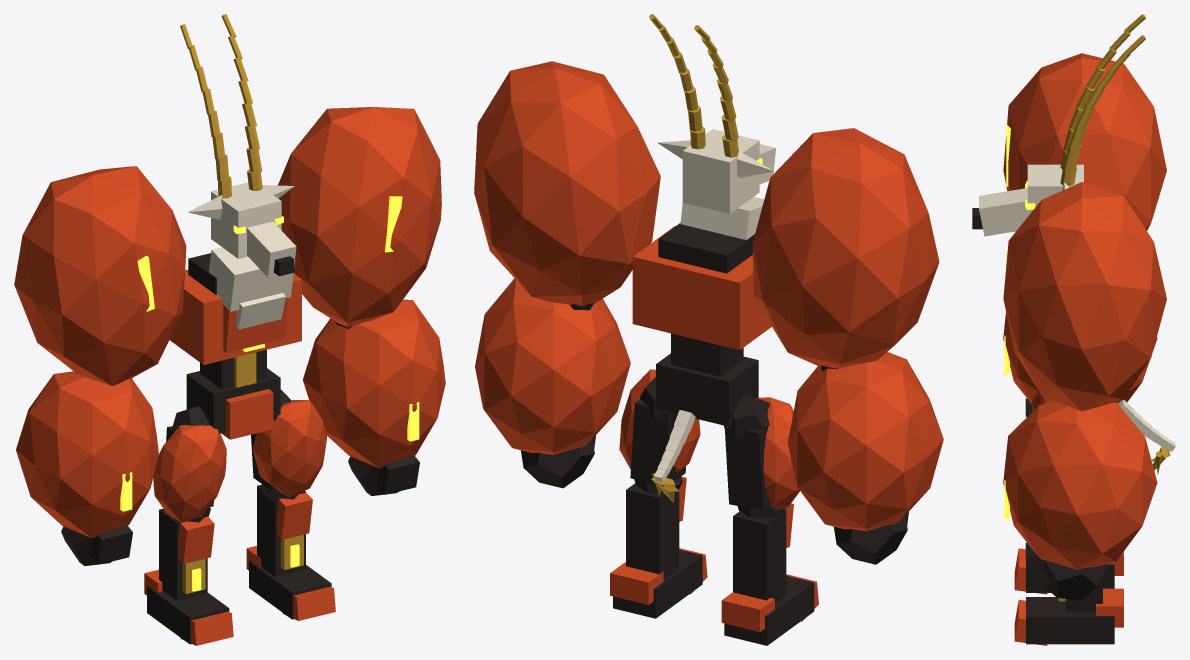
Rendered from beast-hangar-oryxus-v1.glb.
3 views of the same model, side by side, from view 1: azimuth 30°, elevation 25°; view 2: azimuth 150°, elevation 25°; view 3: azimuth 270°, elevation 25° (orthographic). The views are drawn at different scales.
Visible parts, largest first — view 1: surface_9, surface_16, arms_1, arms_2, surface_25, surface_36, surface_5, surface_45, surface_68, surface_1, surface_31, surface_42 (+17 smaller); view 2: surface_16, surface_9, arms_1, arms_2, surface_5, surface_1, surface_45, surface_27, surface_38, surface_8, surface_24, surface_25 (+11 smaller); view 3: surface_16, arms_2, surface_9, surface_42, surface_46, surface_21, surface_45, arms_1, surface_44, surface_38, surface_22, surface_31 (+2 smaller).
Boxes of the visible parts, bbox=[...] form: surface_9: bbox=[14, 166, 186, 385]; surface_16: bbox=[278, 107, 441, 327]; arms_1: bbox=[16, 371, 158, 538]; arms_2: bbox=[303, 299, 445, 468]; surface_25: bbox=[153, 425, 226, 522]; surface_36: bbox=[252, 400, 327, 497]; surface_5: bbox=[169, 269, 301, 364]; surface_45: bbox=[211, 182, 281, 258]; surface_68: bbox=[209, 247, 295, 311]; surface_1: bbox=[186, 368, 280, 433]; surface_31: bbox=[147, 586, 229, 644]; surface_42: bbox=[249, 561, 331, 619]; surface_16: bbox=[474, 61, 660, 306]; surface_9: bbox=[752, 128, 939, 368]; arms_1: bbox=[788, 352, 943, 531]; arms_2: bbox=[475, 278, 630, 454]; surface_5: bbox=[632, 226, 771, 349]; surface_1: bbox=[656, 353, 758, 426]; surface_45: bbox=[682, 129, 759, 214]; surface_27: bbox=[733, 509, 786, 602]; surface_38: bbox=[626, 483, 679, 579]; surface_8: bbox=[658, 223, 754, 273]; surface_24: bbox=[724, 426, 770, 510]; surface_25: bbox=[756, 397, 799, 509]; surface_16: bbox=[1003, 182, 1166, 411]; arms_2: bbox=[1003, 400, 1157, 569]; surface_9: bbox=[1003, 53, 1166, 231]; surface_42: bbox=[1026, 597, 1114, 644]; surface_46: bbox=[979, 188, 1027, 236]; surface_21: bbox=[1043, 560, 1106, 600]; surface_45: bbox=[1027, 164, 1083, 216]; arms_1: bbox=[1003, 312, 1157, 403]; surface_44: bbox=[1096, 588, 1123, 627]; surface_38: bbox=[1065, 575, 1102, 612]; surface_22: bbox=[1025, 542, 1049, 587]; surface_31: bbox=[1026, 561, 1114, 592].
Size of the model in its own units: 10.41 by 13.83 by 4.35.
